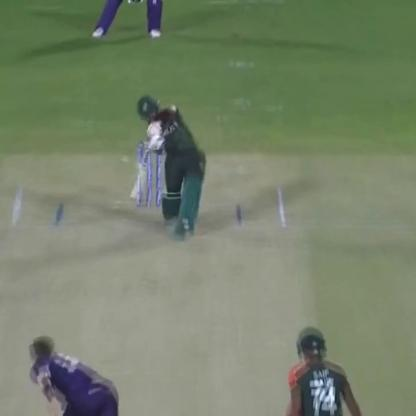ball: (117, 152, 131, 166)
bat: (132, 141, 154, 208)
pitch: (4, 173, 320, 416)
